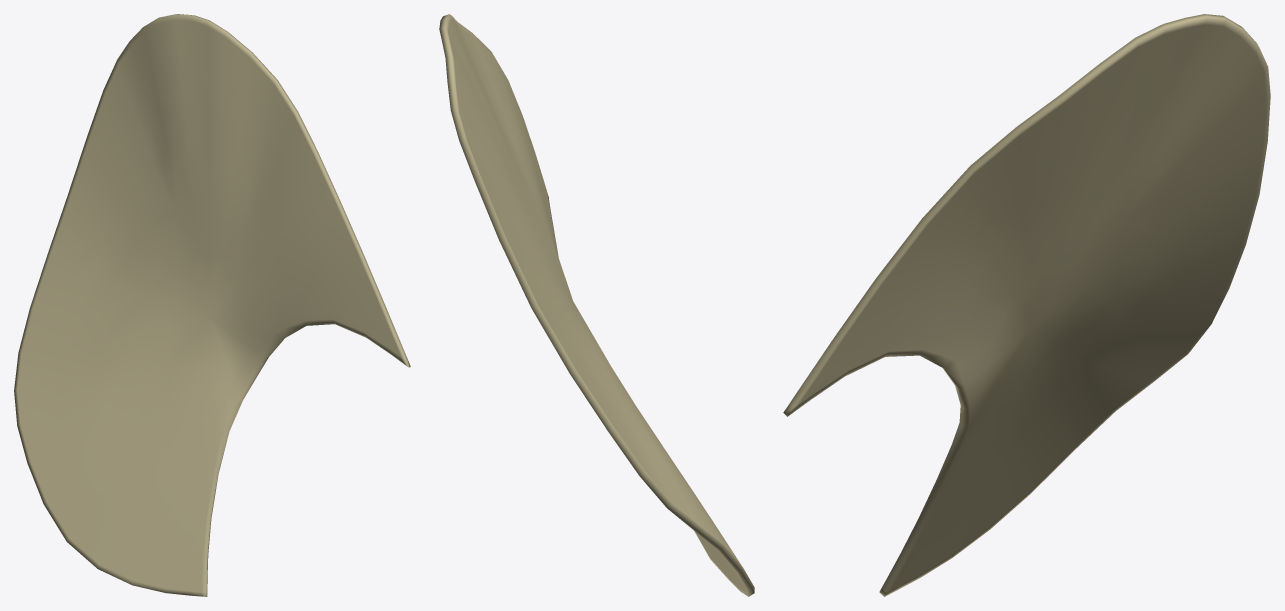
3 renders of one model, left to right at view 1: azimuth 30°, elevation 25°; view 2: azimuth 150°, elevation 25°; view 3: azimuth 270°, elevation 25°, orthographic. The views are drawn at different scales.
Parts seen in each view (by area): view 1: 左侧闭孔膜; view 2: 左侧闭孔膜; view 3: 左侧闭孔膜.
Part boxes in pixels (bbox=[...]): 左侧闭孔膜: bbox=[14, 14, 410, 596]; 左侧闭孔膜: bbox=[439, 14, 754, 596]; 左侧闭孔膜: bbox=[783, 14, 1270, 596].
Size of the model in its own units: 0.0412 by 0.0712 by 0.049.
